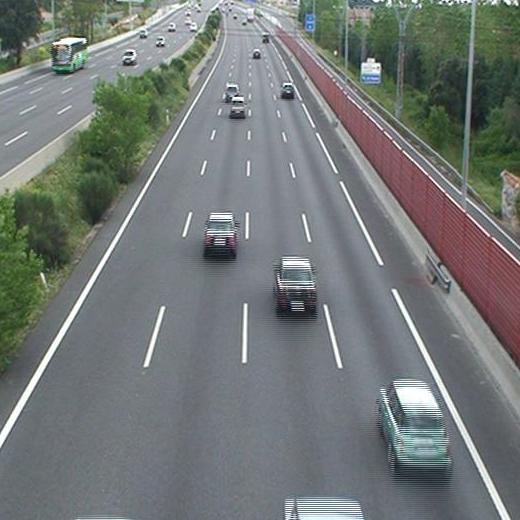car: (379, 382, 454, 471), (276, 258, 315, 310), (205, 214, 237, 250), (230, 97, 244, 116), (282, 84, 295, 96), (225, 85, 237, 96), (252, 48, 261, 60)
